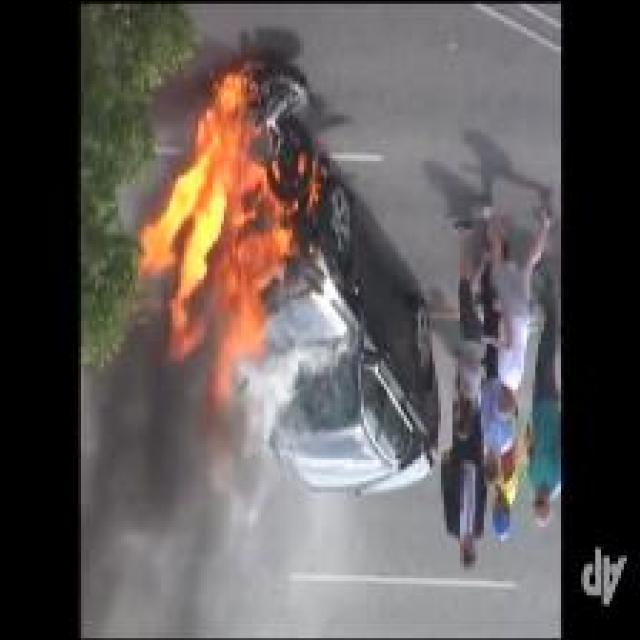Fire: (137, 68, 297, 416)
